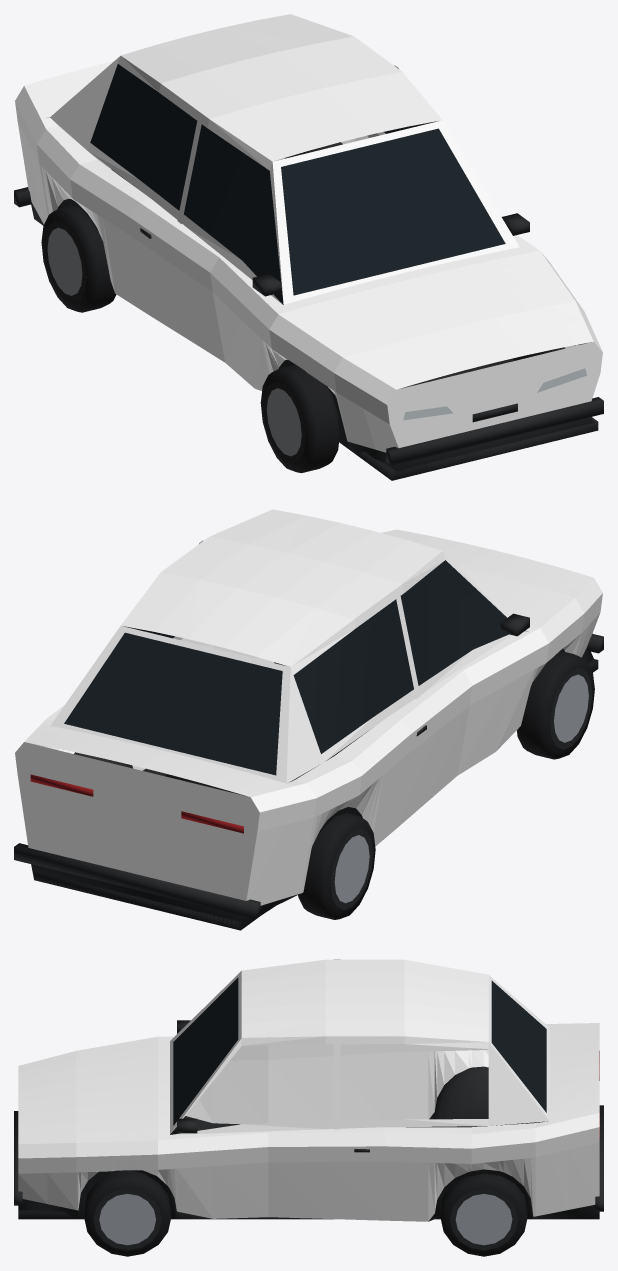
Rendered from kosame_fio.glb.
The picture shows the model from 3 angles, top to bottom: view 1: azimuth 30°, elevation 25°; view 2: azimuth 150°, elevation 25°; view 3: azimuth 270°, elevation 25°; orthographic projection. The views are drawn at different scales.
Parts seen in each view (by area): view 1: Body_Paint, Body_Details, Mount_FrontLeft_Wheel_Details, Mount_RearLeft_Wheel_Details; view 2: Body_Paint, Body_Details, Mount_FrontLeft_Wheel_Details, Mount_RearLeft_Wheel_Details; view 3: Body_Paint, Body_Details, Mount_FrontRight_Wheel_Details, Mount_RearRight_Wheel_Details.
Part boxes in pixels (<box>): Body_Paint: <box>15,14,602,452</box>; Body_Details: <box>14,64,603,480</box>; Mount_FrontLeft_Wheel_Details: <box>260,364,339,473</box>; Mount_RearLeft_Wheel_Details: <box>41,205,116,312</box>; Body_Paint: <box>15,509,602,905</box>; Body_Details: <box>14,560,603,930</box>; Mount_FrontLeft_Wheel_Details: <box>517,651,594,759</box>; Mount_RearLeft_Wheel_Details: <box>298,813,375,919</box>; Body_Paint: <box>18,959,599,1221</box>; Body_Details: <box>14,977,603,1221</box>; Mount_FrontRight_Wheel_Details: <box>84,1170,171,1256</box>; Mount_RearRight_Wheel_Details: <box>440,1173,527,1256</box>.
Bounding box in the file's own units: 1.75 × 1.46 × 3.78.
Materials: 2 (1 with a texture image).
